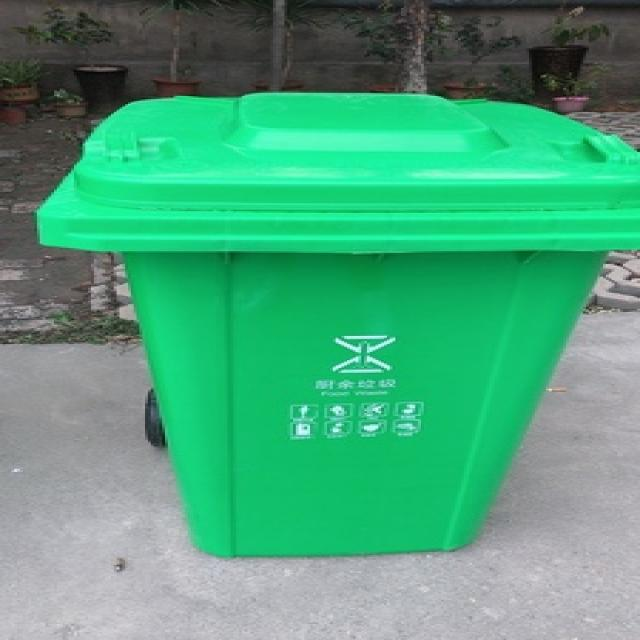ash bin: (34, 89, 637, 556)
